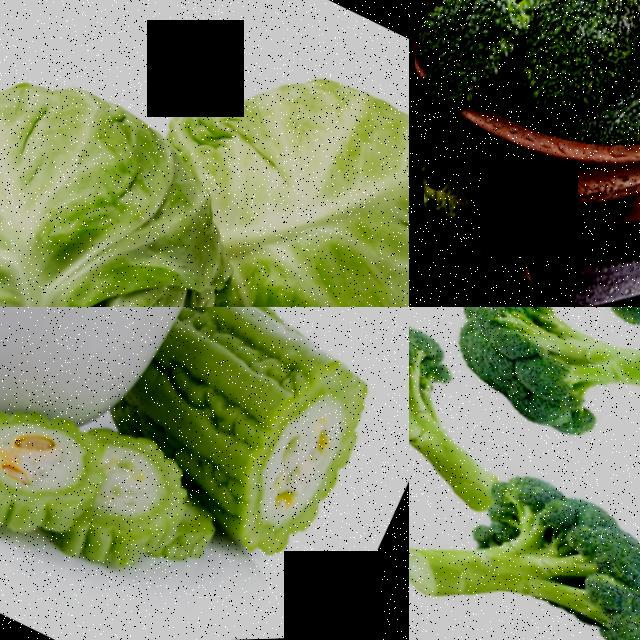bitter gourd: (105, 307, 409, 541), (33, 429, 209, 620), (0, 370, 105, 593)
broccoli: (419, 447, 640, 640), (435, 307, 640, 500), (409, 0, 557, 104), (504, 0, 640, 110), (413, 114, 508, 256)
cabbage: (0, 33, 273, 307), (167, 85, 409, 307)
